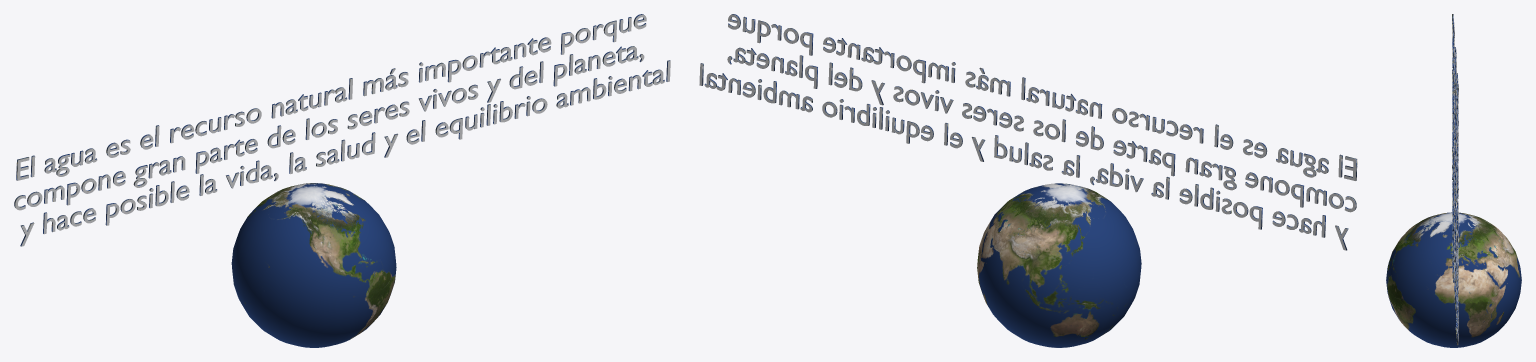
Rendered from planetaTierra.fbx.
3 renders of one model, left to right at view 1: azimuth 30°, elevation 25°; view 2: azimuth 150°, elevation 25°; view 3: azimuth 270°, elevation 25°, orthographic. The views are drawn at different scales.
Visible parts, largest first — view 1: Esfera, Text; view 2: Esfera, Text; view 3: Esfera, Text.
Part boxes in pixels (bbox=[...]): Esfera: bbox=[231, 183, 396, 347]; Text: bbox=[14, 14, 670, 246]; Esfera: bbox=[977, 183, 1141, 347]; Text: bbox=[699, 14, 1357, 250]; Esfera: bbox=[1386, 212, 1521, 347]; Text: bbox=[1452, 14, 1458, 345].
Bounding box in the file's own units: 22.05 × 8.14 × 4.81.
Materials: 1 (1 with a texture image).
